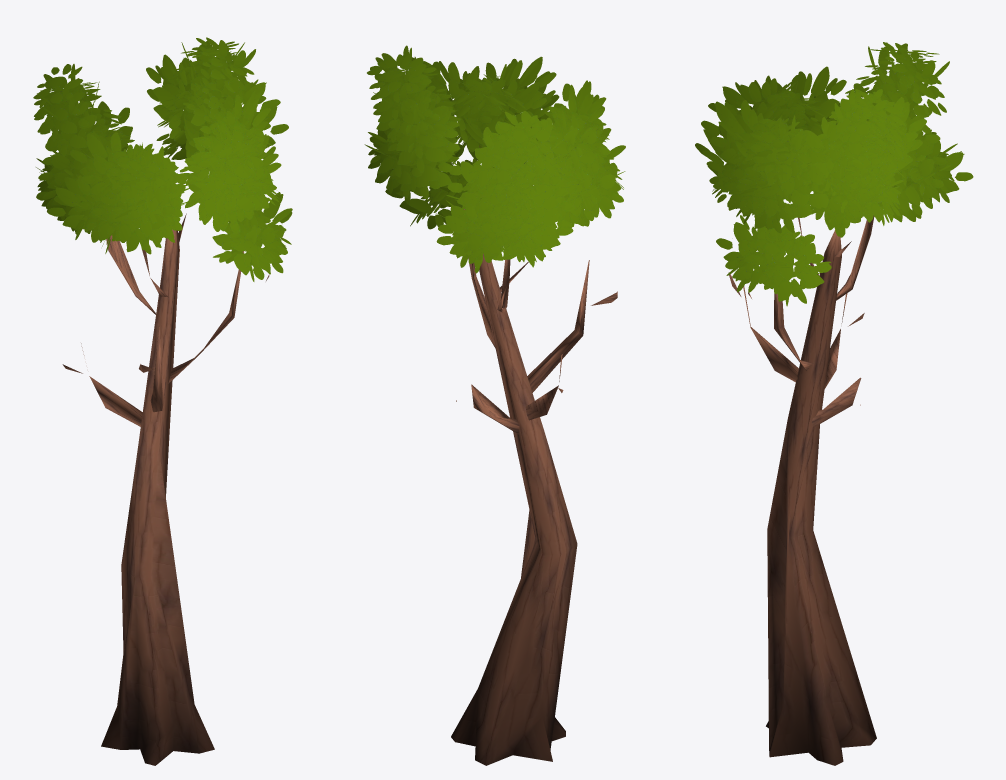
Rendered from oak_4.glb.
3 views of the same model, side by side, from view 1: azimuth 30°, elevation 25°; view 2: azimuth 150°, elevation 25°; view 3: azimuth 270°, elevation 25° (orthographic). The views are drawn at different scales.
Visible parts, largest first — view 1: CommonTree_4; view 2: CommonTree_4; view 3: CommonTree_4.
Part boxes in pixels (left/top/right/bottom): CommonTree_4: left=33, top=37, right=292, bottom=765; CommonTree_4: left=364, top=45, right=625, bottom=765; CommonTree_4: left=695, top=42, right=973, bottom=765.
Size of the model in its own units: 3.83 by 9.4 by 3.76.
2 materials, 2 textured.
